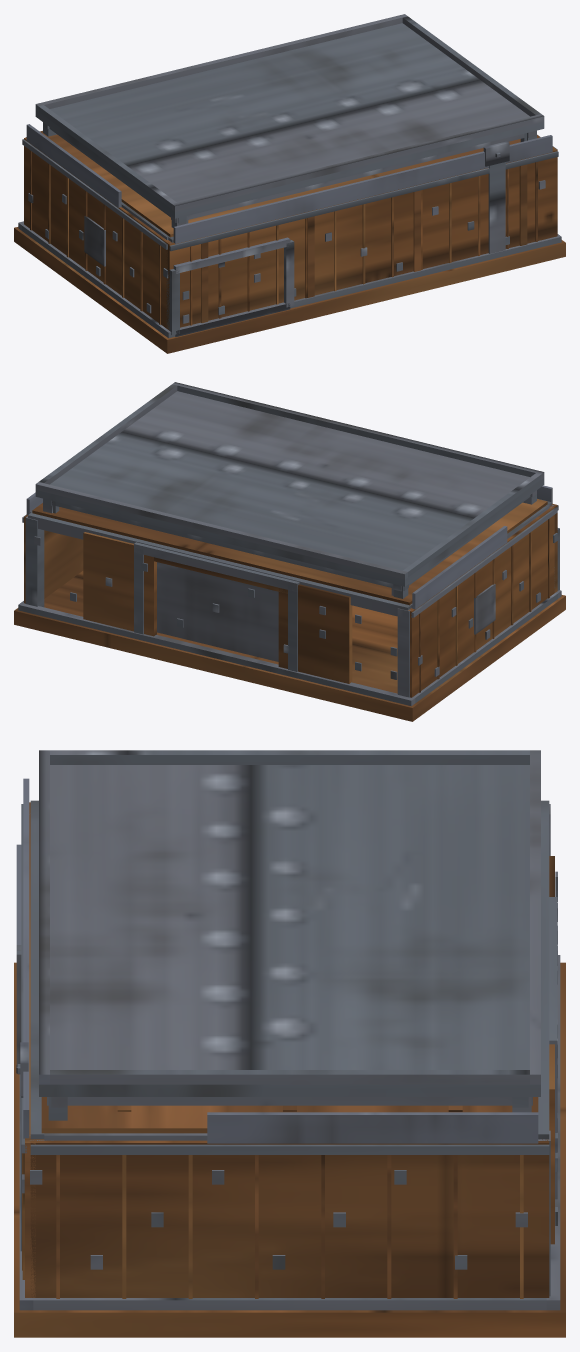
3 views of the same model, one above another, from view 1: azimuth 30°, elevation 25°; view 2: azimuth 150°, elevation 25°; view 3: azimuth 270°, elevation 25° (orthographic). The views are drawn at different scales.
Visible parts, largest first — view 1: SM_HDBF_BoxFarm_Advanced_LOD1; view 2: SM_HDBF_BoxFarm_Advanced_LOD1; view 3: SM_HDBF_BoxFarm_Advanced_LOD1.
Boxes of the visible parts, x1,y1,x2,y2 form: SM_HDBF_BoxFarm_Advanced_LOD1: (14,14,565,353); SM_HDBF_BoxFarm_Advanced_LOD1: (14,382,565,721); SM_HDBF_BoxFarm_Advanced_LOD1: (14,750,565,1337).
Bounding box in the file's own units: 3 × 1 × 2.
4 materials, 4 textured.
